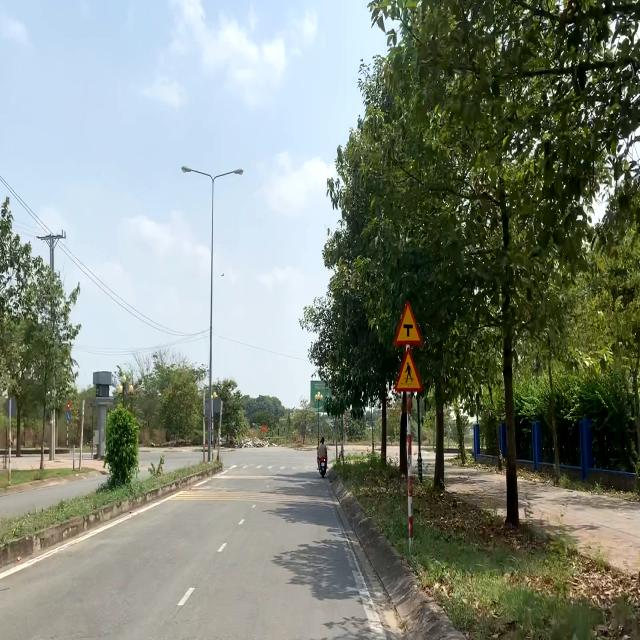W.205d: (393, 297, 423, 347)
W.224: (394, 346, 424, 394)
